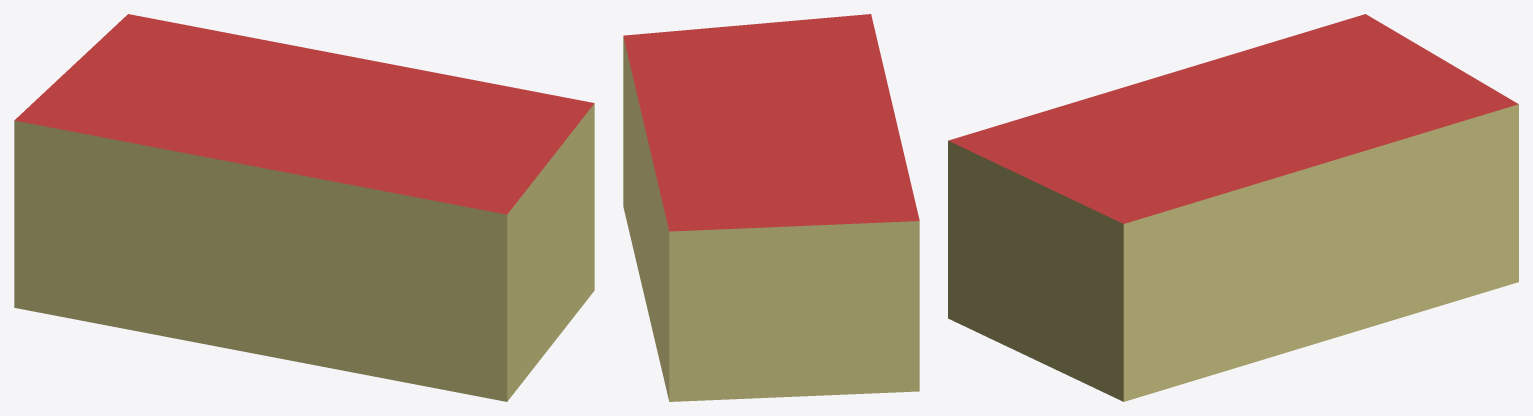
3 renders of one model, left to right at view 1: azimuth 30°, elevation 25°; view 2: azimuth 150°, elevation 25°; view 3: azimuth 270°, elevation 25°, orthographic. The views are drawn at different scales.
Bounding box in the file's own units: 14.89 × 17.1 × 5.88.
